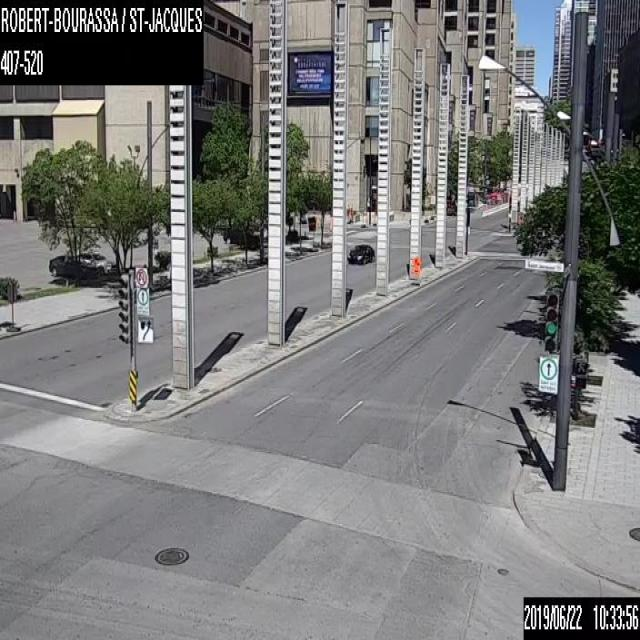construction: (412, 252, 421, 276)
vehicle: (48, 254, 96, 276), (222, 225, 259, 246), (76, 251, 110, 271), (346, 243, 374, 265), (446, 203, 456, 213)
